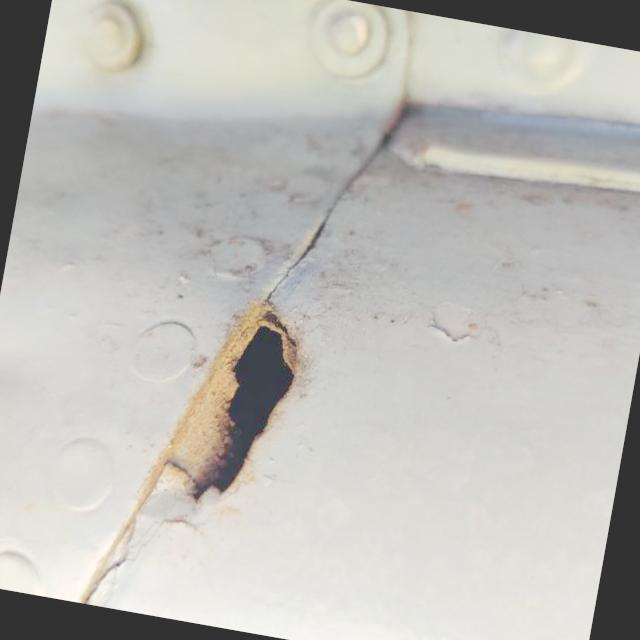crack: (118, 264, 344, 550)
